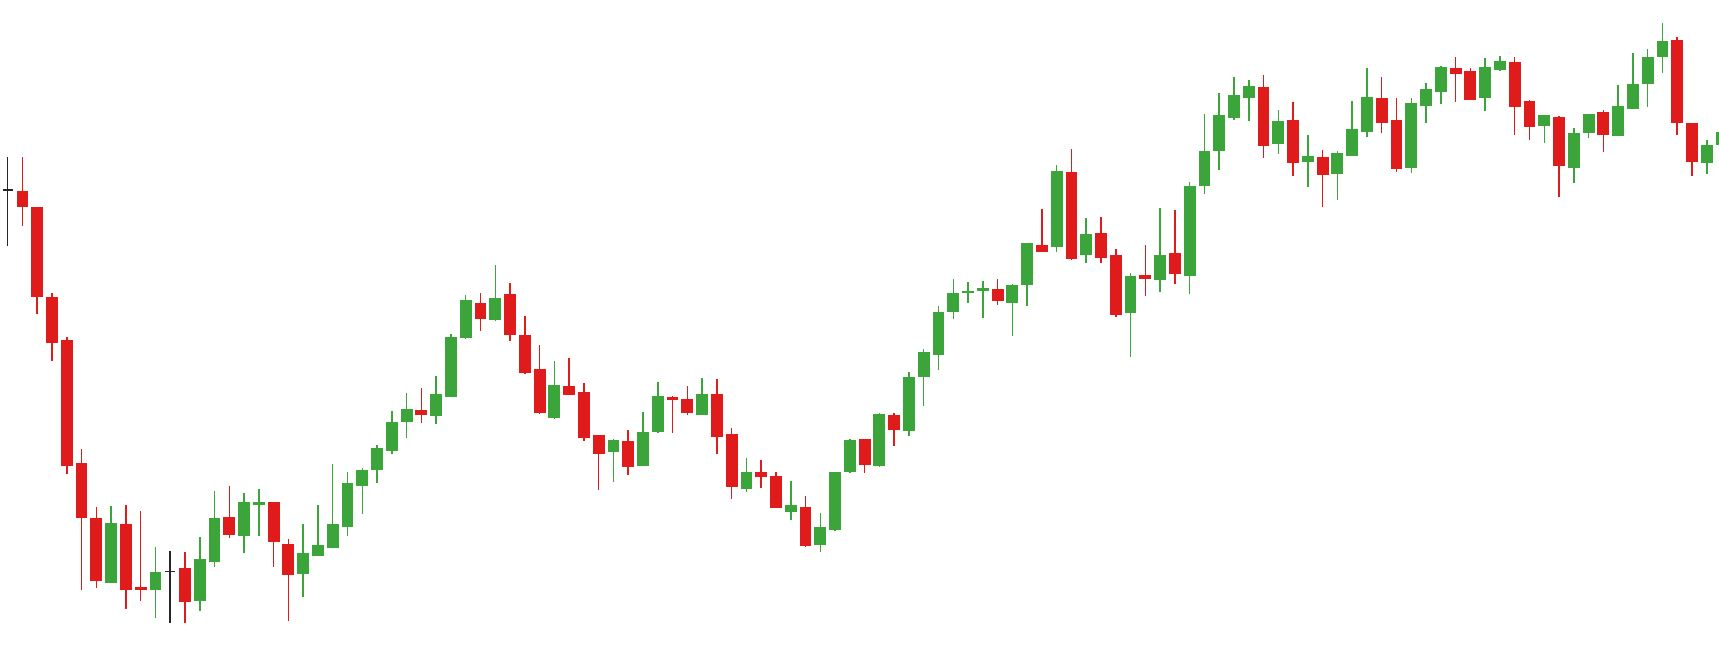buy: (1003, 240, 1138, 361)
sell: (1478, 21, 1684, 109)
